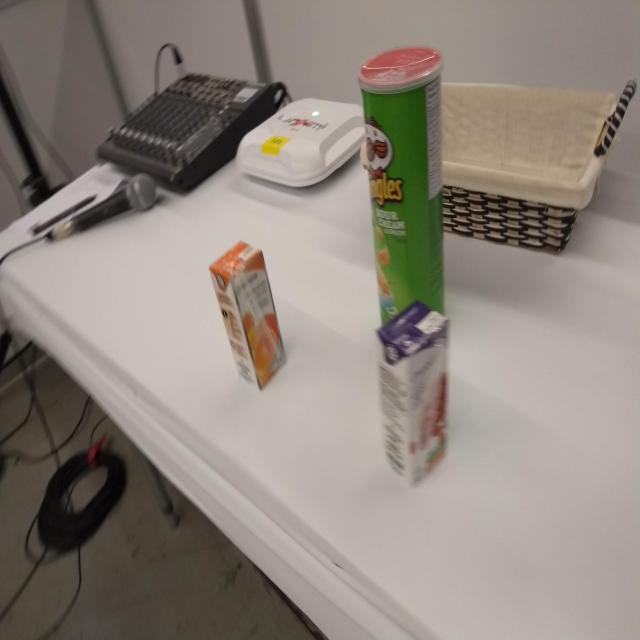grape_juice: (376, 296, 454, 492)
orange_juice: (205, 236, 290, 396)
pringles: (356, 42, 451, 328)
